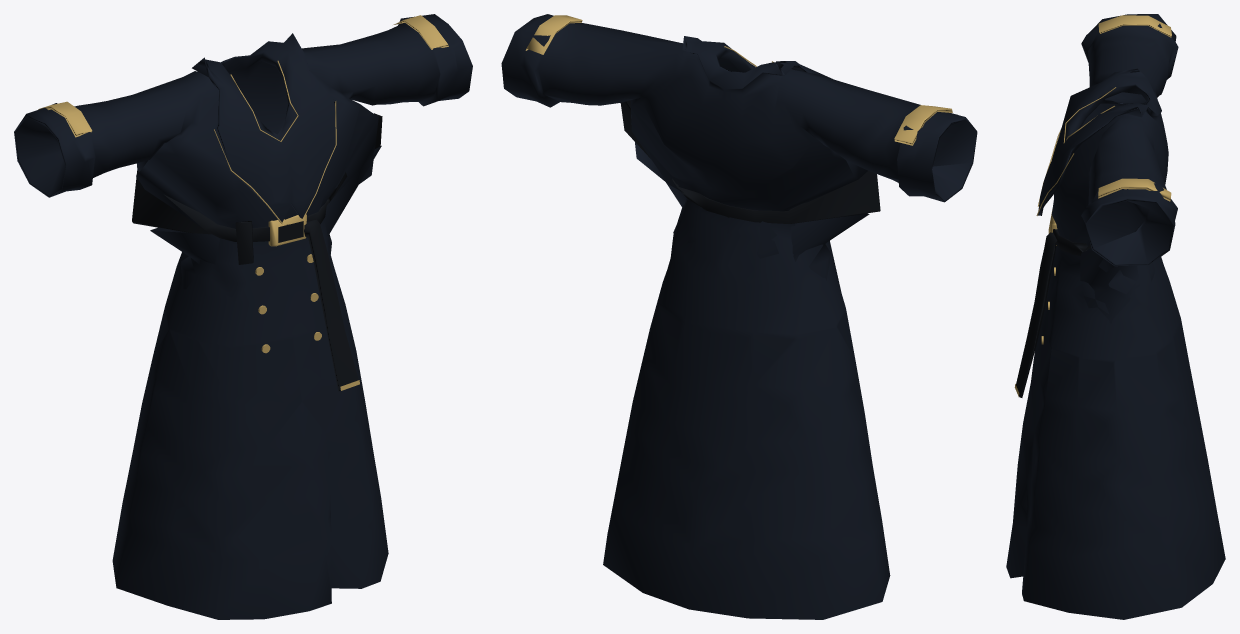
Rendered from belt-coat-only.glb.
The picture shows the model from 3 angles, left to right: view 1: azimuth 30°, elevation 25°; view 2: azimuth 150°, elevation 25°; view 3: azimuth 270°, elevation 25°; orthographic projection. The views are drawn at different scales.
Parts seen in each view (by area): view 1: Apparel_belt-coat_0, Apparel_belt-coat_1, Apparel_belt-coat_color-fine-piping; view 2: Apparel_belt-coat_0, Apparel_belt-coat_1; view 3: Apparel_belt-coat_0, Apparel_belt-coat_1, Apparel_belt-coat_color-fine-piping.
Boxes of the visible parts, x1,y1,x2,y2 form: Apparel_belt-coat_0: (14, 14, 472, 619); Apparel_belt-coat_1: (38, 15, 448, 391); Apparel_belt-coat_color-fine-piping: (214, 60, 359, 390); Apparel_belt-coat_0: (501, 14, 977, 619); Apparel_belt-coat_1: (525, 15, 952, 223); Apparel_belt-coat_0: (1006, 14, 1225, 619); Apparel_belt-coat_1: (1016, 15, 1171, 397); Apparel_belt-coat_color-fine-piping: (1014, 87, 1116, 396).
Size of the model in its own units: 2.74 by 3.25 by 1.33.
